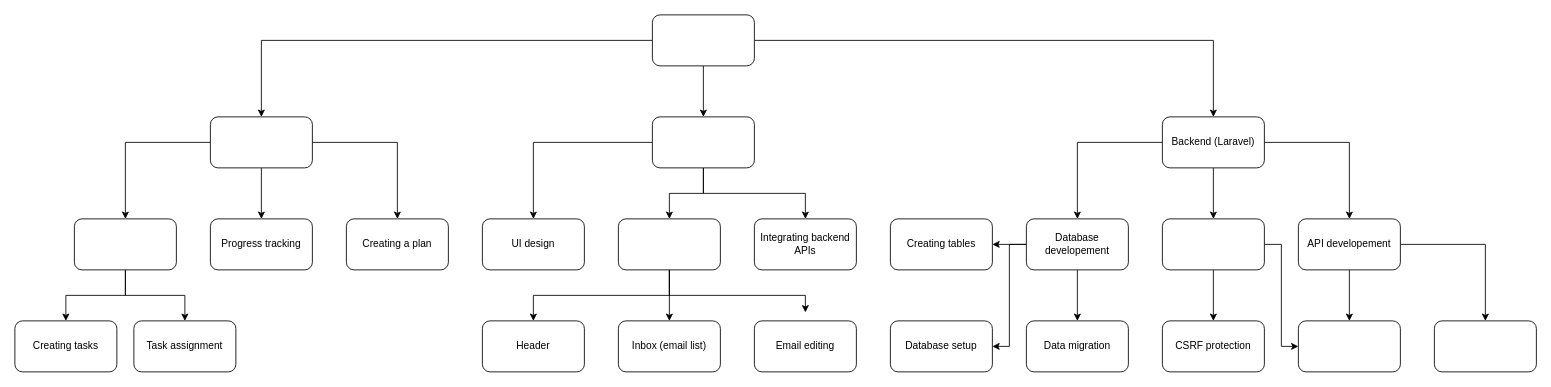
This 1551x387 diagram has some shape labels left out. The centre of each missing label's shape, as x and y in pixels:
"Email CRUD API" goes at point 1485,346.
"Frontend (React)" goes at point 703,142.
"Project" goes at point 703,40.
"Project management" goes at point 261,142.
"React components" goes at point 669,244.
"Security" goes at point 1213,244.
"Tasks" goes at point 125,244.
"User authentication" goes at point 1349,346.
